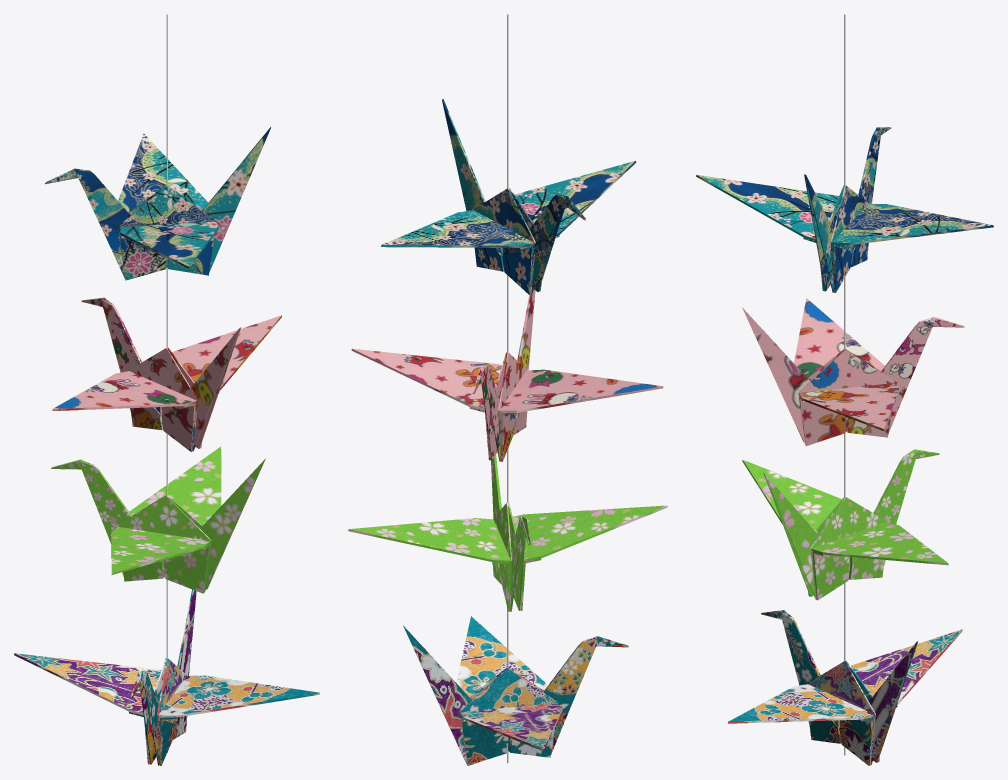
The model's file is origami_paper_crane_on_string.glb.
3 views of the same model, side by side, from view 1: azimuth 30°, elevation 25°; view 2: azimuth 150°, elevation 25°; view 3: azimuth 270°, elevation 25° (orthographic).
Visible parts, largest first — view 1: polySurface2, polySurface6, polySurface35, polySurface15, polySurface39, polySurface47, polySurface23, polySurface27, polySurface16, polySurface19, polySurface24, polySurface40 (+17 smaller); view 2: polySurface39, polySurface47, polySurface35, polySurface27, polySurface15, polySurface2, polySurface23, polySurface6, polySurface11, polySurface5, polySurface10, polySurface22 (+13 smaller); view 3: polySurface15, polySurface23, polySurface2, polySurface39, polySurface35, polySurface27, polySurface6, polySurface47, polySurface29, polySurface34, polySurface30, polySurface41 (+16 smaller).
Part boxes in pixels (x1,y1,x2,y2): polySurface2: (158, 675, 319, 762); polySurface6: (14, 653, 161, 762); polySurface35: (52, 371, 196, 451); polySurface15: (118, 133, 208, 212); polySurface39: (129, 446, 221, 525); polySurface47: (111, 527, 210, 590); polySurface23: (118, 221, 218, 268); polySurface27: (172, 315, 281, 446); polySurface16: (202, 127, 270, 271); polySurface19: (45, 170, 130, 279); polySurface24: (117, 185, 216, 278); polySurface40: (200, 459, 265, 592); polySurface39: (348, 518, 510, 611); polySurface47: (512, 505, 667, 608); polySurface35: (499, 369, 663, 461); polySurface27: (351, 348, 501, 458); polySurface15: (381, 210, 534, 292); polySurface2: (456, 616, 547, 696); polySurface23: (514, 160, 636, 290); polySurface6: (460, 702, 562, 763); polySurface11: (403, 625, 471, 764); polySurface5: (459, 668, 557, 764); polySurface10: (544, 638, 628, 753); polySurface22: (473, 188, 535, 294); polySurface15: (832, 203, 993, 292); polySurface23: (696, 174, 838, 288); polySurface2: (728, 684, 874, 765); polySurface39: (811, 522, 948, 598); polySurface35: (794, 298, 884, 377); polySurface27: (799, 383, 899, 443); polySurface6: (850, 629, 962, 761); polySurface47: (742, 460, 869, 594); polySurface29: (742, 308, 809, 444); polySurface34: (798, 349, 894, 444); polySurface30: (881, 319, 964, 433); polySurface41: (764, 473, 818, 599).
Bounding box in the file's own units: 0.7224 × 1.9 × 0.6909.
Materials: 9 (8 with a texture image).
